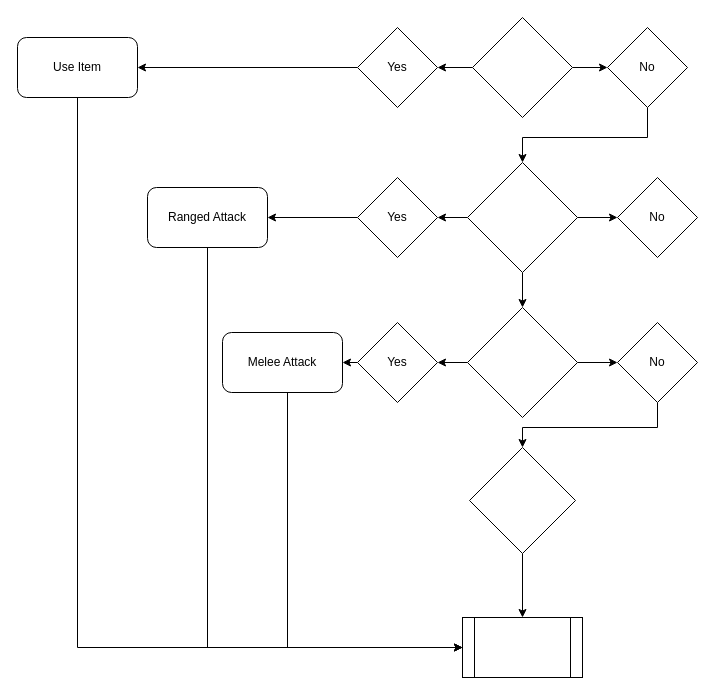
Some shapes in this 715 by 695 pixel diagram are drawn without their labels. The box of each missing label's shape, as (x1, y1, x2, y2) in pixels:
Attempt Escape: (468, 446, 576, 554)
Can I Melee Attack?: (466, 306, 578, 418)
Can I ranged attack?: (466, 162, 578, 272)
EXIT: (462, 616, 582, 678)
Should I heal?: (472, 16, 572, 118)
